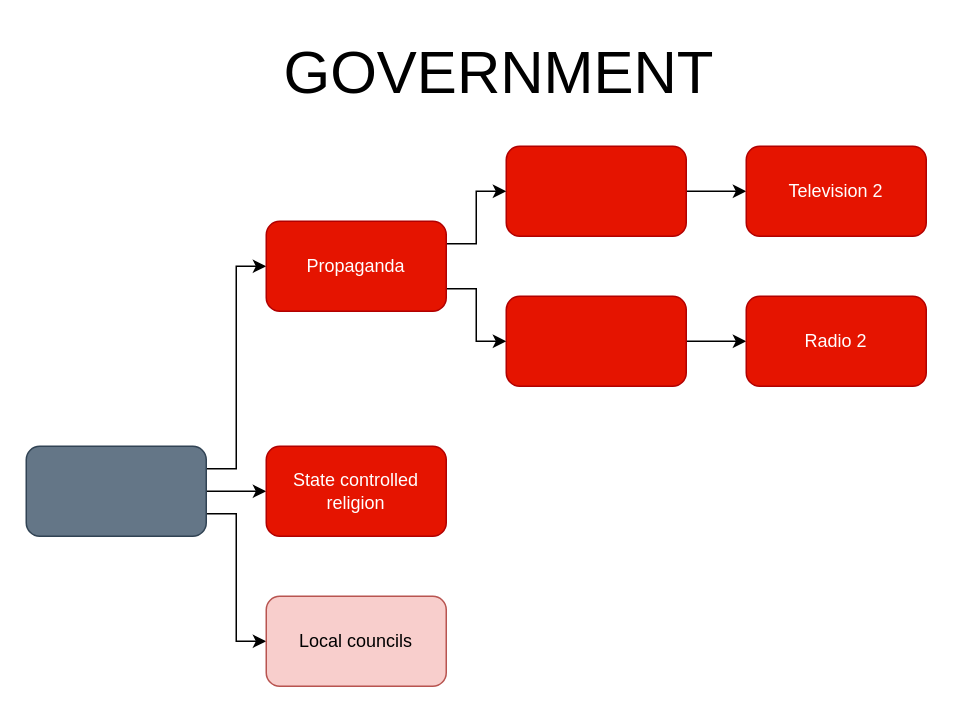
Some shapes in this 953 by 713 pixel diagram are drawn without their labels. The shapes that lost their labels are listed below. From the top down, each one's centre as x and y in pixels, then its label:
At (x=595, y=190): "Television 1".
At (x=595, y=340): "Radio 1".
At (x=115, y=490): "Revolutionary goverments".
